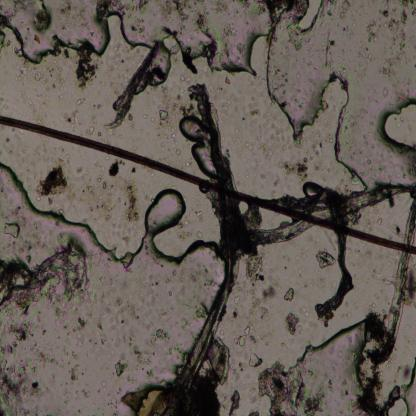Air bubble: (265, 0, 368, 188), (72, 182, 218, 276), (169, 3, 262, 80), (0, 157, 71, 236), (0, 9, 75, 65), (302, 319, 365, 380), (375, 93, 416, 157), (92, 11, 149, 57), (179, 114, 213, 173), (397, 357, 416, 414)
Background material: (0, 244, 90, 310), (206, 72, 270, 150), (0, 320, 39, 415), (258, 363, 321, 413), (193, 336, 230, 415), (365, 0, 416, 50), (86, 284, 137, 330), (52, 86, 94, 141), (267, 0, 305, 52), (81, 174, 117, 222), (136, 276, 171, 325), (124, 339, 162, 383), (122, 383, 169, 415), (360, 365, 388, 415), (34, 162, 70, 200), (236, 287, 275, 322), (20, 64, 60, 98), (209, 18, 244, 56), (374, 50, 404, 86), (74, 43, 97, 89), (95, 0, 153, 17), (120, 181, 142, 224), (244, 249, 266, 291), (54, 311, 88, 338), (364, 309, 387, 347), (155, 106, 177, 142), (284, 155, 309, 182), (40, 341, 64, 369), (50, 388, 92, 403), (33, 3, 52, 34), (233, 326, 258, 348), (65, 349, 79, 385), (314, 250, 338, 270), (285, 311, 303, 336), (151, 326, 170, 348), (175, 220, 194, 242), (227, 385, 241, 413), (3, 220, 21, 240), (106, 160, 122, 180), (0, 131, 15, 152), (113, 361, 128, 379), (0, 34, 16, 50), (280, 332, 292, 352), (194, 302, 208, 318), (249, 353, 263, 368), (171, 142, 182, 161), (284, 287, 294, 304), (196, 230, 205, 242)
Cellulose filter fibre: (169, 83, 241, 397), (245, 178, 414, 242), (370, 200, 416, 360), (319, 190, 356, 320), (106, 43, 159, 131)
Hair: (0, 116, 416, 258)
